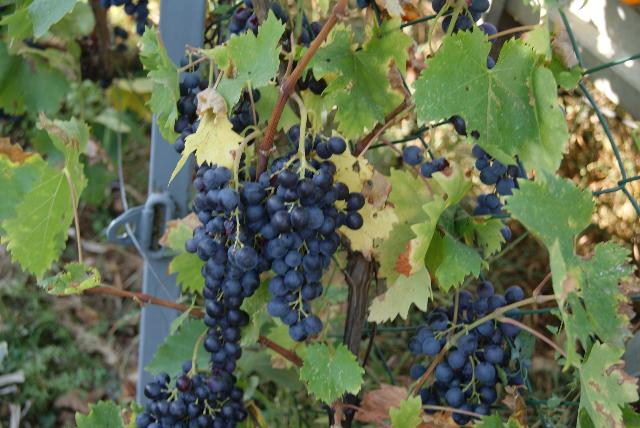grapes: (241, 160, 365, 341), (185, 162, 266, 374), (416, 320, 521, 414), (408, 281, 524, 356), (135, 360, 248, 428)
